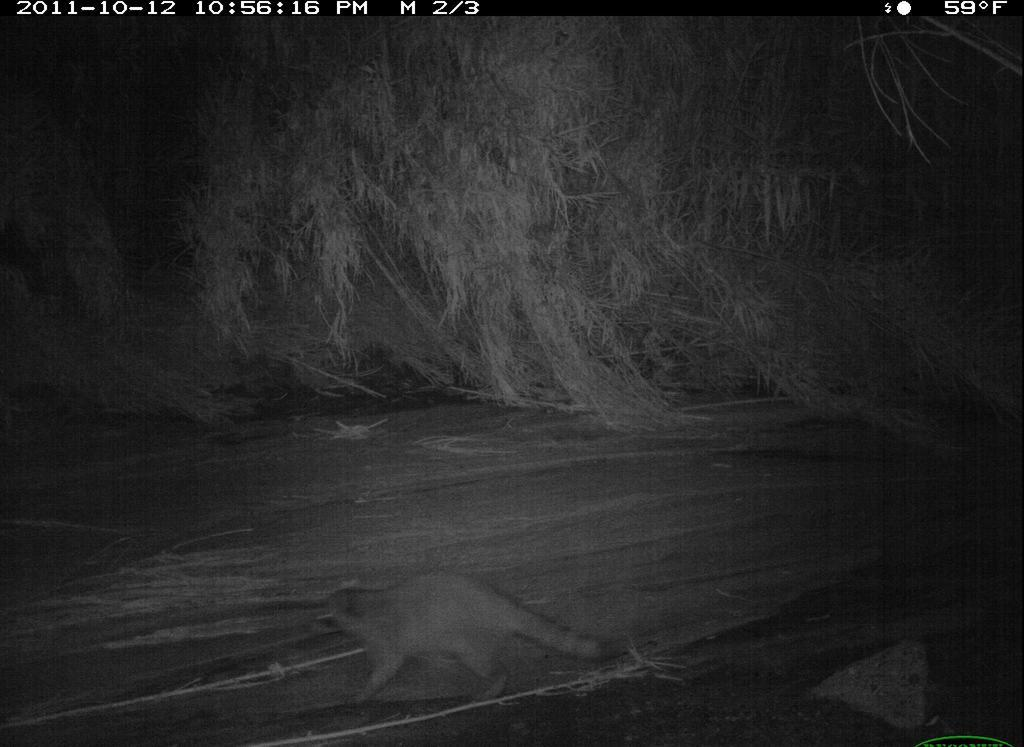raccoon: (299, 567, 629, 722)
